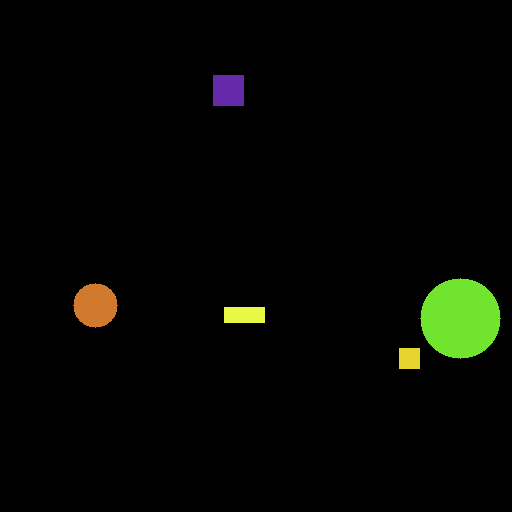circle: (416, 275, 503, 357), (73, 282, 114, 325)
side_rect: (219, 302, 271, 324)
square: (208, 72, 247, 109), (399, 347, 421, 369)
